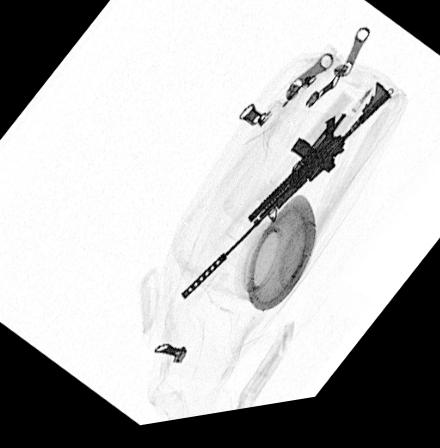Gun: (180, 93, 393, 307)
